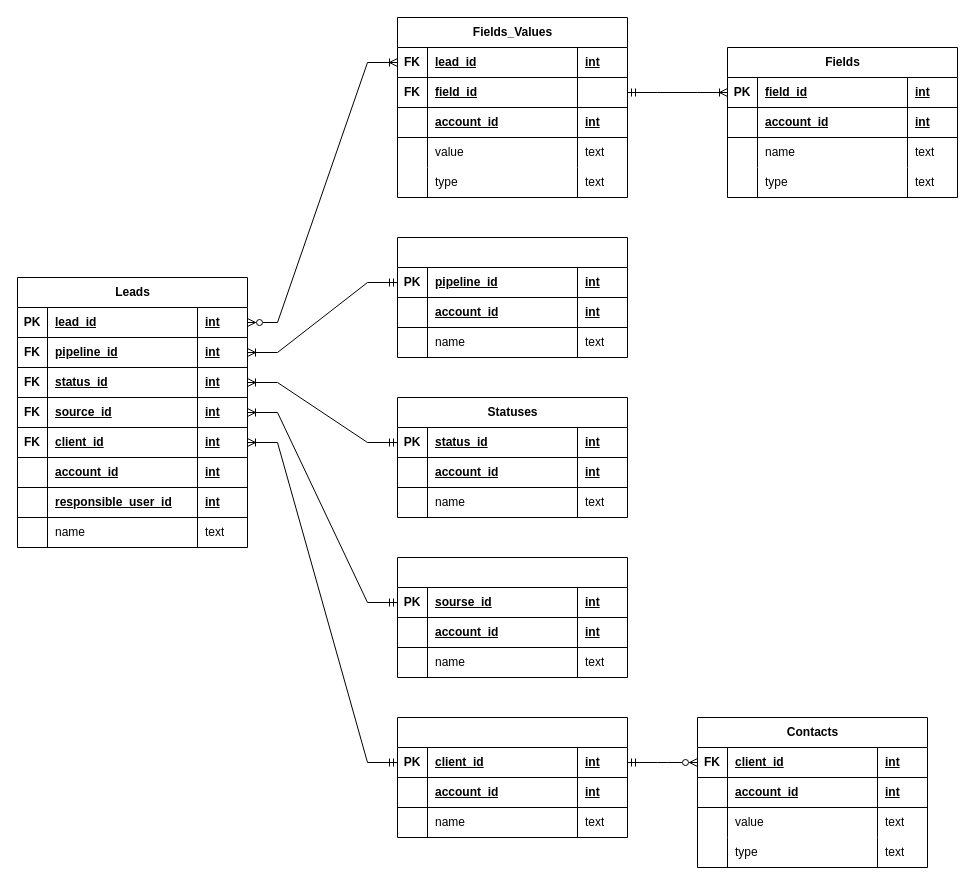
Some shapes in this 975 by 885 pixel diagram are drawn without their labels. The shapes that lost their labels are listed below. From the top down, each one's box as (x1, y1, x2, y2) in pixels, then its label:
(396, 236, 628, 358): Pipelines
(396, 556, 628, 678): Sourses
(396, 716, 628, 838): Clients
